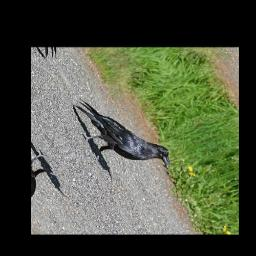Crow: (60, 80, 177, 188)
